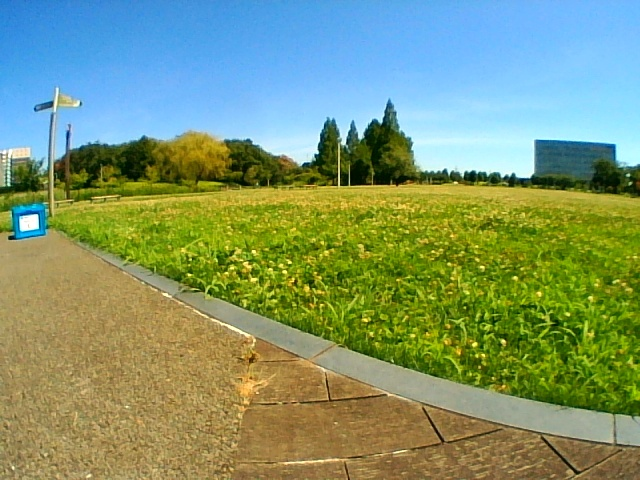blue_box: (12, 204, 45, 238)
tag: (21, 217, 36, 229)
